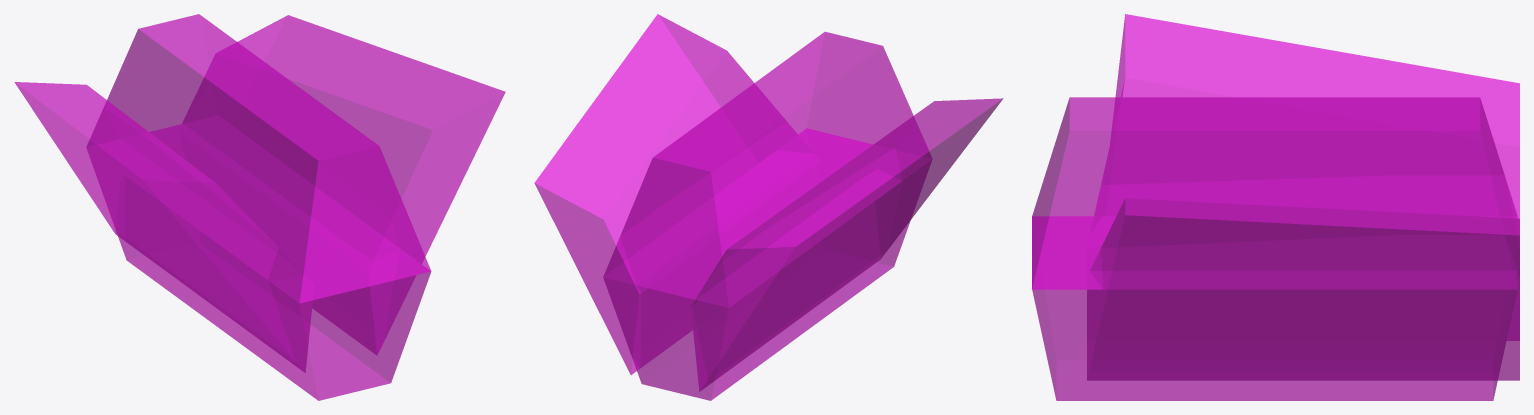
File: SM_Veh_Ship_L_Rudder_03_Flap_Collision.fbx
The picture shows the model from 3 angles, left to right: view 1: azimuth 30°, elevation 25°; view 2: azimuth 150°, elevation 25°; view 3: azimuth 270°, elevation 25°; orthographic projection. The views are drawn at different scales.
Visible parts, largest first — view 1: SM_Veh_Ship_L_Rudder_03_Flap_Collision; view 2: SM_Veh_Ship_L_Rudder_03_Flap_Collision; view 3: SM_Veh_Ship_L_Rudder_03_Flap_Collision.
Boxes of the visible parts, left/top/right/bottom form: SM_Veh_Ship_L_Rudder_03_Flap_Collision: left=14, top=14, right=505, bottom=400; SM_Veh_Ship_L_Rudder_03_Flap_Collision: left=534, top=14, right=1003, bottom=400; SM_Veh_Ship_L_Rudder_03_Flap_Collision: left=1032, top=14, right=1519, bottom=400.
Bounding box in the file's own units: 644 × 398 × 659.
